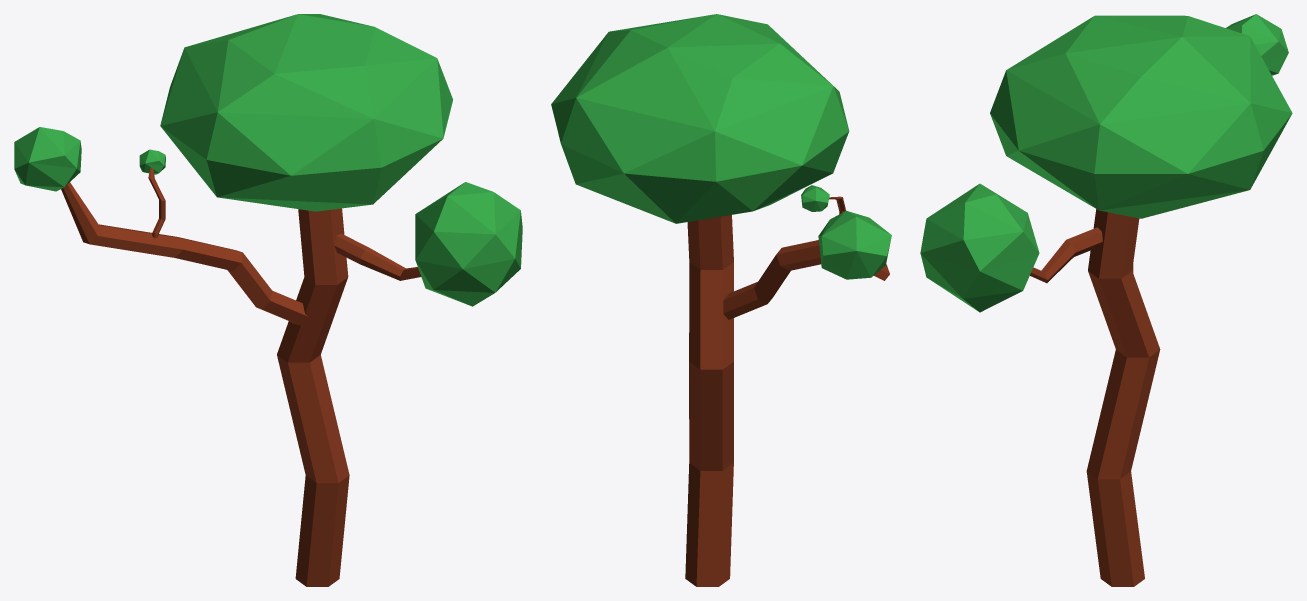
Rendered from tree.5.fbx.
3 views of the same model, side by side, from view 1: azimuth 30°, elevation 25°; view 2: azimuth 150°, elevation 25°; view 3: azimuth 270°, elevation 25° (orthographic).
Visible parts, largest first — view 1: Tree.005; view 2: Tree.005; view 3: Tree.005.
Part boxes in pixels (<box>): Tree.005: <box>14,14,522,586</box>; Tree.005: <box>551,14,891,586</box>; Tree.005: <box>920,14,1292,586</box>.
Bounding box in the file's own units: 590 × 815 × 503.
